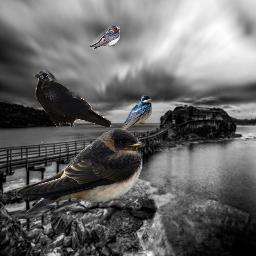Crow: (33, 70, 111, 127)
Swallow: (16, 128, 145, 216), (117, 94, 152, 136), (90, 26, 120, 50)
